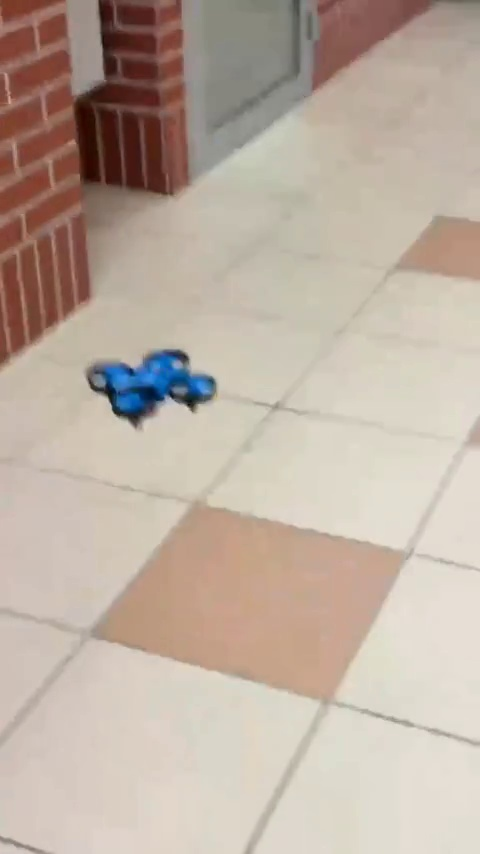drone: (89, 348, 216, 420)
